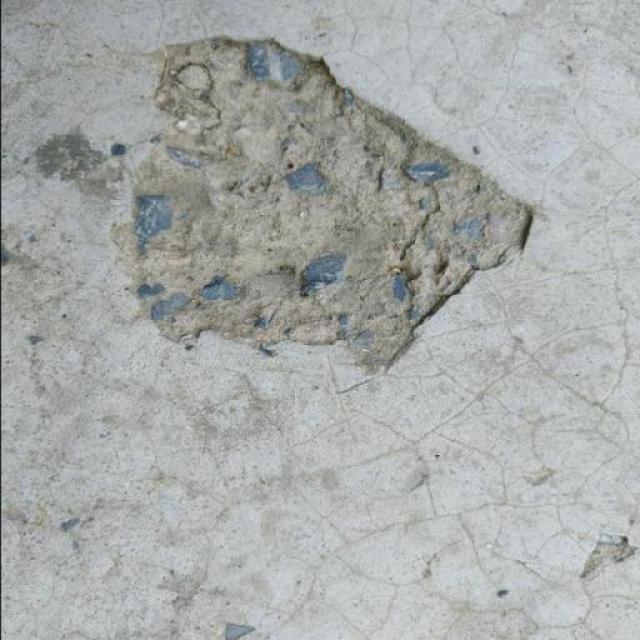D10: (104, 35, 532, 374)
